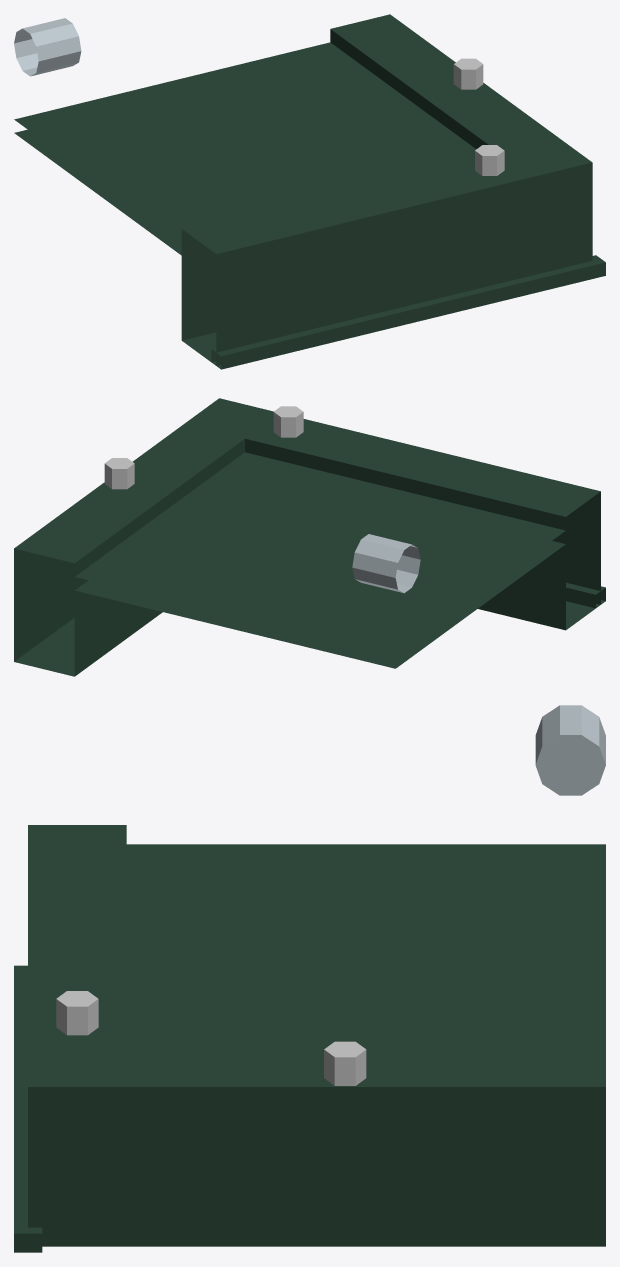
The model's file is cell_34.obj.
3 renders of one model, top to bottom at view 1: azimuth 30°, elevation 25°; view 2: azimuth 150°, elevation 25°; view 3: azimuth 270°, elevation 25°, orthographic. The views are drawn at different scales.
Bounding box in the file's own units: 0.9 × 0.4376 × 0.84.
